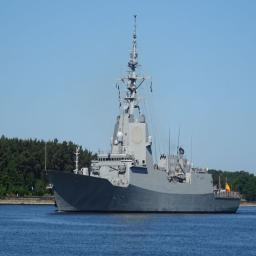Fragata: (45, 15, 244, 218)
